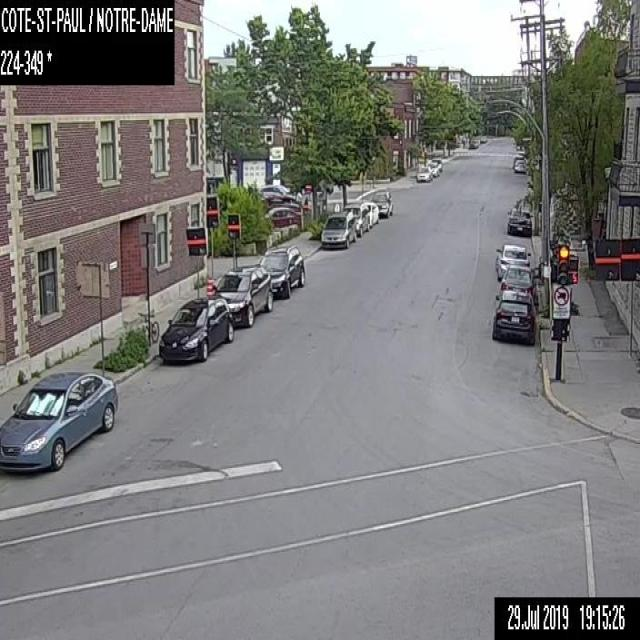construction: (204, 275, 217, 296)
vehicle: (0, 369, 116, 474), (157, 296, 234, 365), (215, 264, 272, 327), (492, 288, 538, 345), (256, 244, 305, 297), (320, 210, 356, 248), (494, 243, 530, 280), (500, 264, 533, 293), (343, 202, 369, 236), (258, 184, 301, 204), (507, 207, 532, 236), (266, 206, 302, 226), (369, 190, 393, 218), (363, 201, 378, 226), (415, 166, 432, 182), (427, 162, 439, 176), (512, 154, 524, 167), (514, 158, 525, 172), (431, 157, 442, 171), (468, 140, 478, 148), (479, 135, 486, 143)
